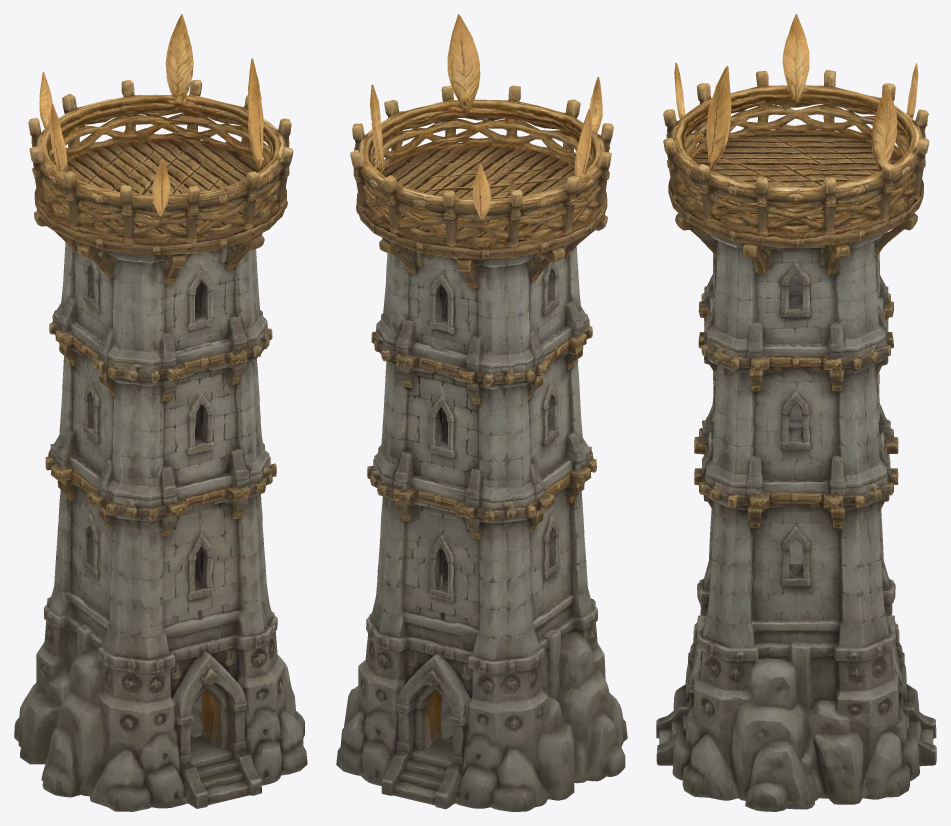
File: Aerie.glb
3 views of the same model, side by side, from view 1: azimuth 30°, elevation 25°; view 2: azimuth 150°, elevation 25°; view 3: azimuth 270°, elevation 25° (orthographic).
Bounding box in the file's own units: 0.7165 × 1.9 × 0.6776.
Materials: 1 (1 with a texture image).
